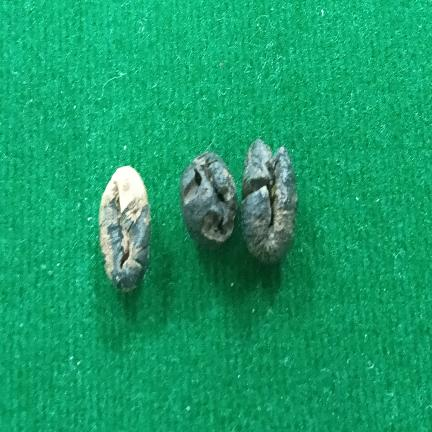partial-black: (241, 139, 298, 262), (99, 166, 151, 291), (180, 151, 237, 247)
